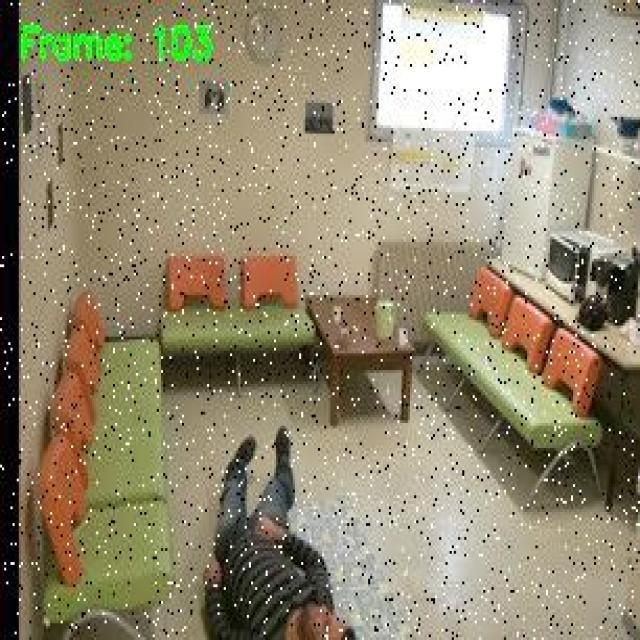fall: (209, 420, 364, 637)
